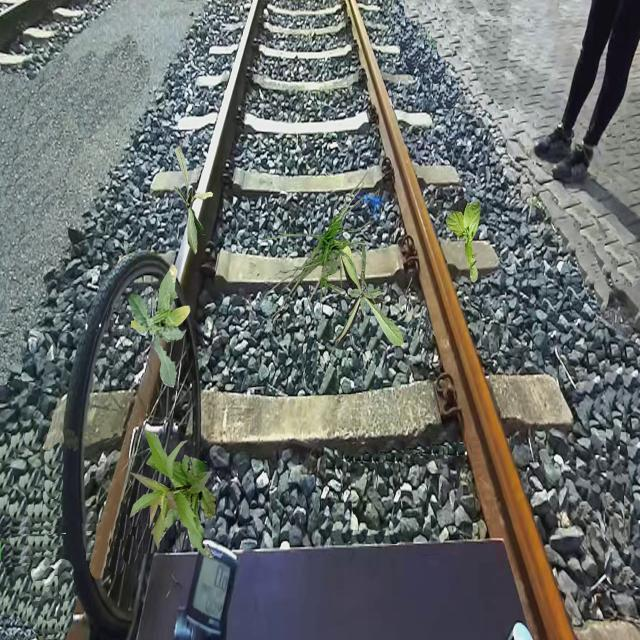Plant: (260, 171, 378, 334), (128, 430, 217, 560), (332, 241, 404, 349), (128, 264, 190, 388), (174, 146, 214, 256), (445, 199, 480, 282)
